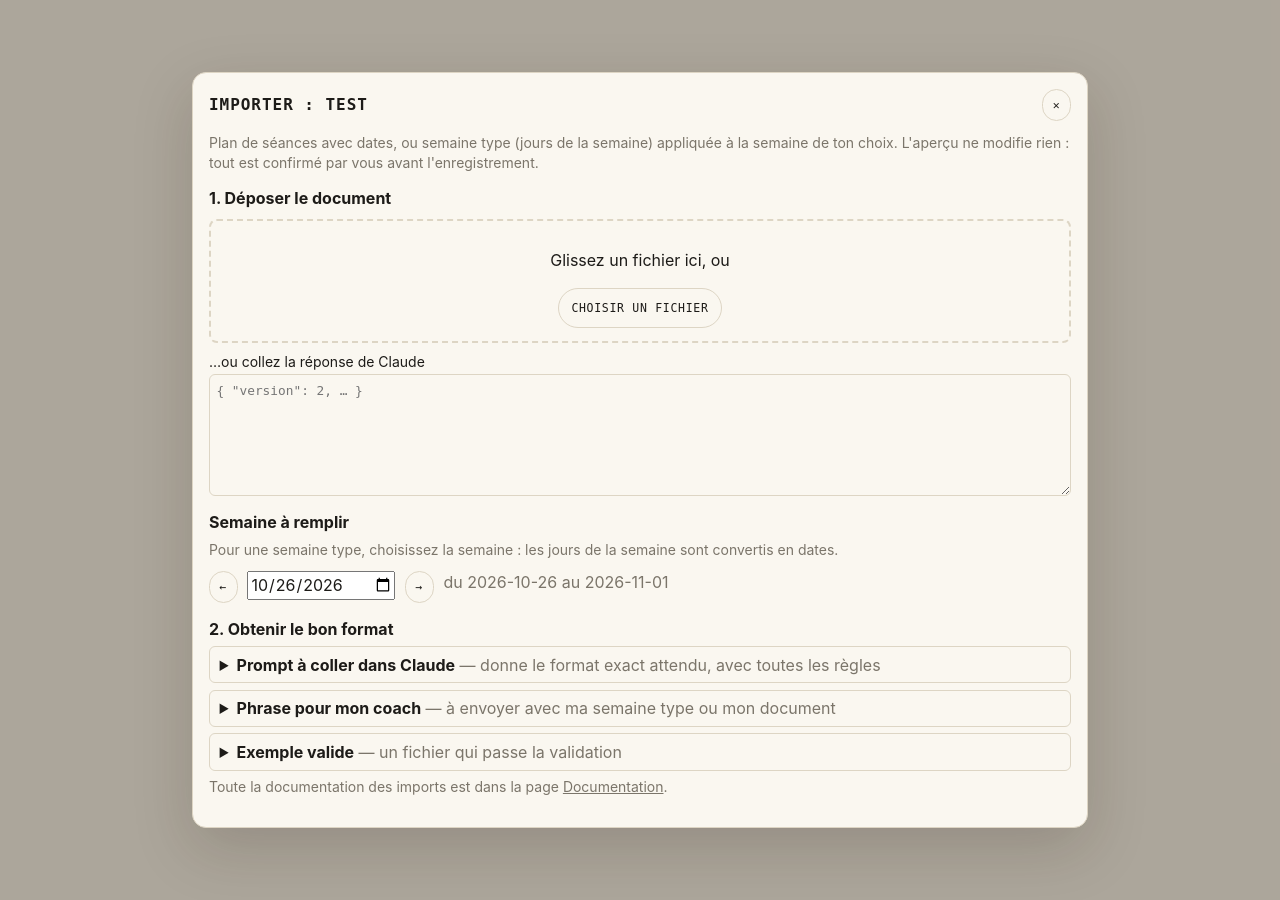
Panneau d'import › refuse un JSON invalide sans rien envoyer
Step 1. Click the text box labelled "…ou collez la réponse de Claude" → coordinates (640, 435), box [209,374,1071,496]
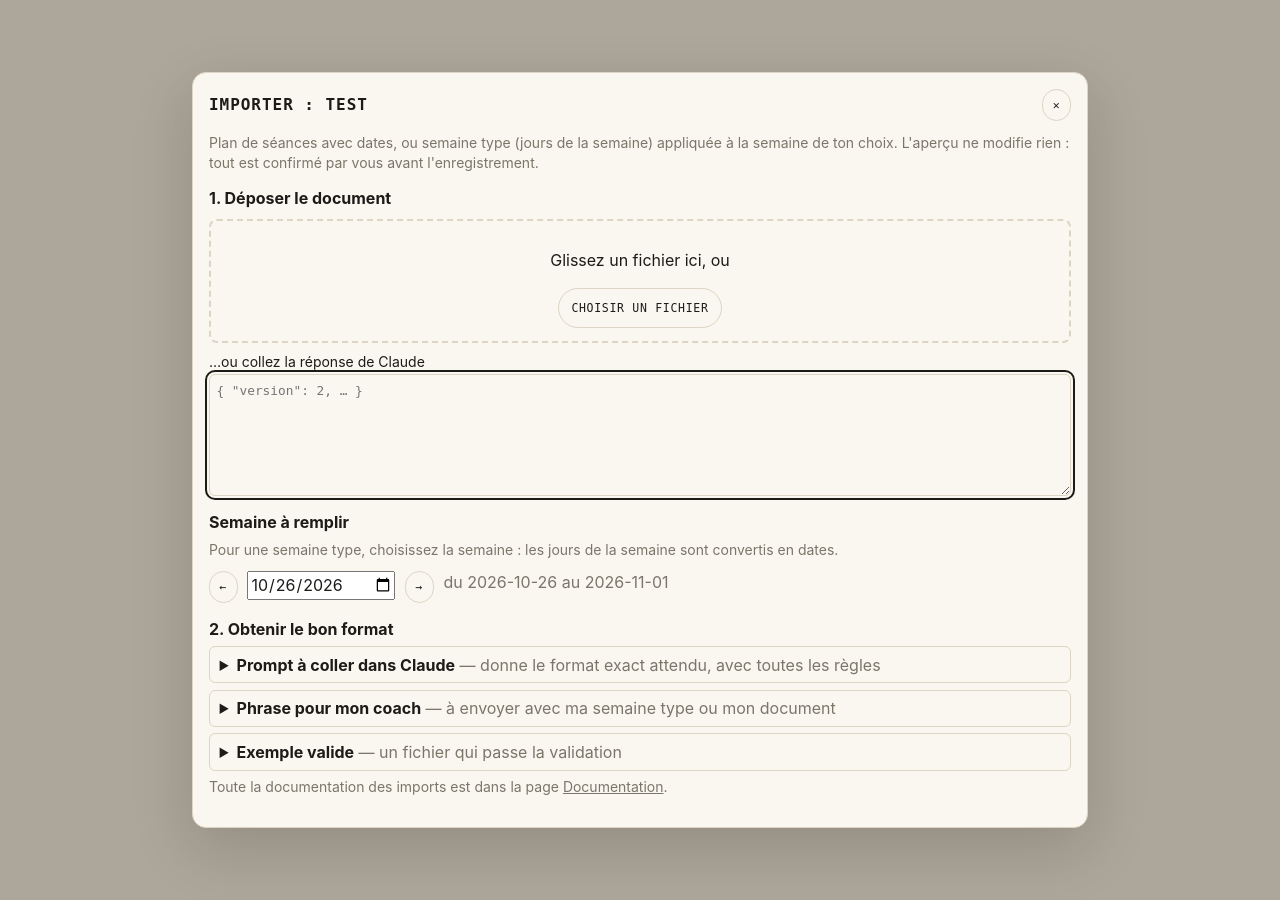
Step 2. Type keys "{ pas du json"
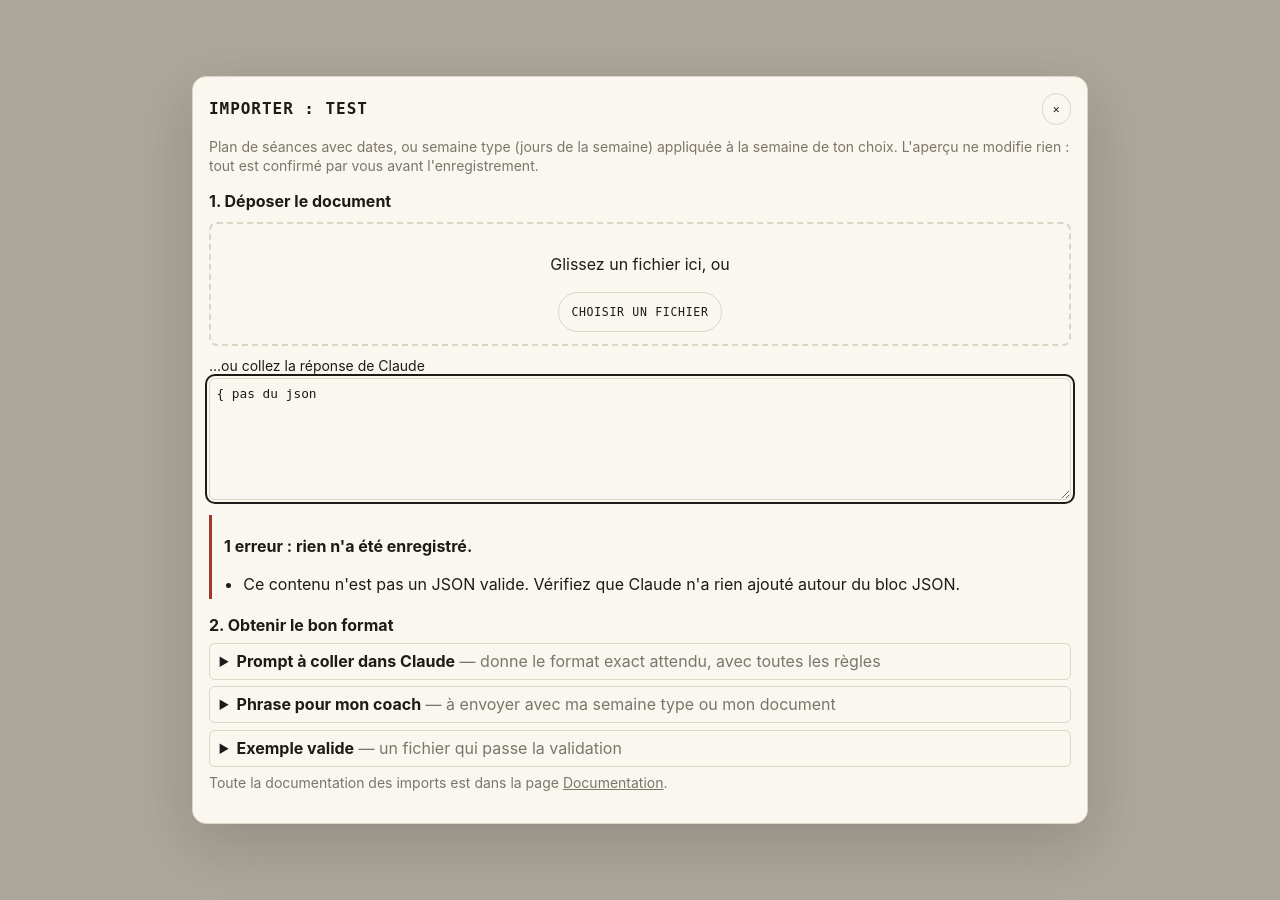
Expected: the message shows "JSON valide", [243,574,960,594]
